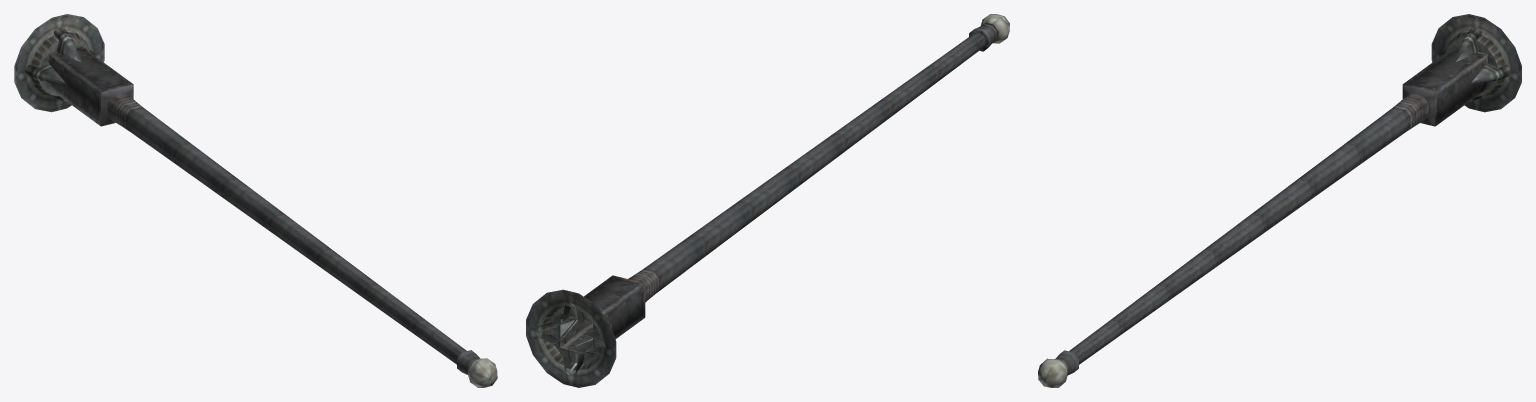
Rendered from flagpole.obj.
3 renders of one model, left to right at view 1: azimuth 30°, elevation 25°; view 2: azimuth 150°, elevation 25°; view 3: azimuth 330°, elevation 25°, orthographic.
Parts seen in each view (by area): view 1: Flagpole01:74; view 2: Flagpole01:74; view 3: Flagpole01:74.
Part boxes in pixels (x1,y1,x2,y2): Flagpole01:74: (14,14,497,387); Flagpole01:74: (526,14,1009,387); Flagpole01:74: (1038,14,1521,387).
Size of what is drawn, in the model's own units: 98.32 by 98.34 by 816.
